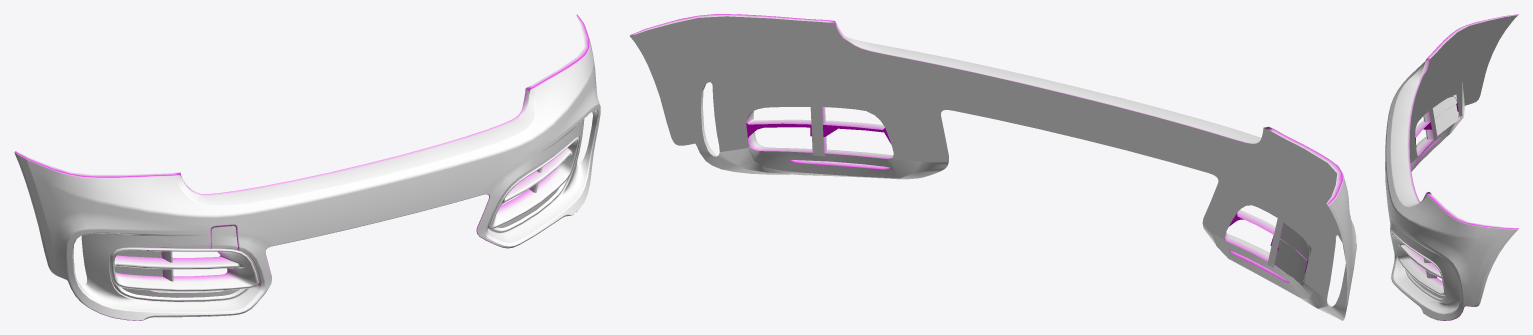
Rendered from Car_Mini_CountrymanJCW_2017_BumperF_SetA_AltD.fbx.
The picture shows the model from 3 angles, left to right: view 1: azimuth 30°, elevation 25°; view 2: azimuth 150°, elevation 25°; view 3: azimuth 270°, elevation 25°; orthographic projection. The views are drawn at different scales.
Parts seen in each view (by area): view 1: BumperF 6; view 2: BumperF 6; view 3: BumperF 6.
Part boxes in pixels (x1,y1,x2,y2): BumperF 6: (14, 14, 600, 320); BumperF 6: (630, 14, 1356, 320); BumperF 6: (1385, 14, 1518, 320).
Size of the model in its own units: 1.74 by 0.4183 by 0.4587.
